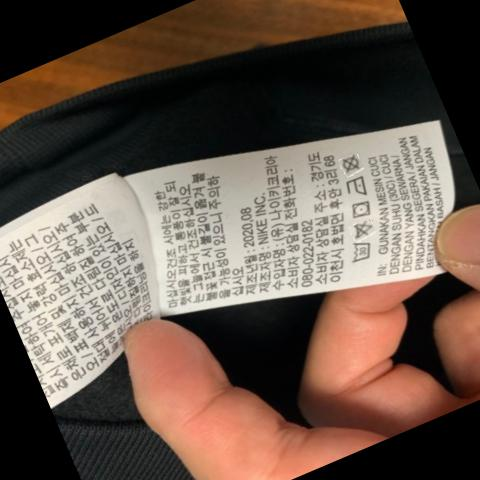30C: (352, 238, 377, 265)
DN_bleach: (352, 218, 376, 240)
DN_dry_clean: (341, 152, 365, 173)
iron_low: (345, 175, 369, 198)
tumble_dry_low: (349, 197, 373, 220)
